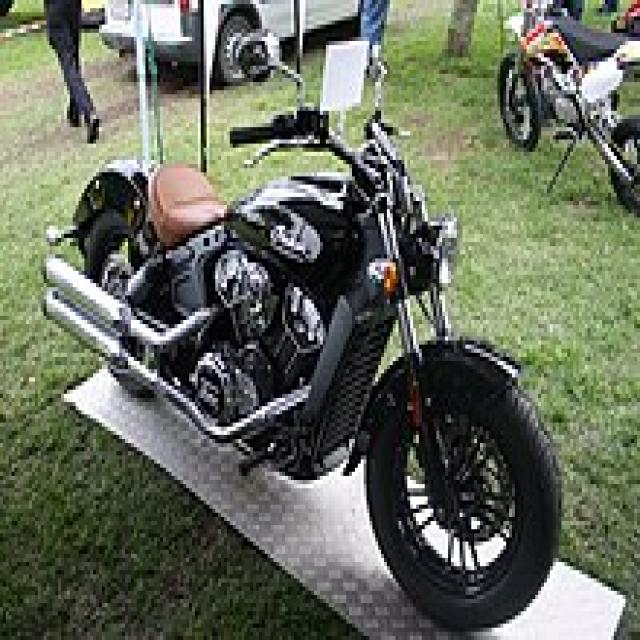car: (100, 1, 360, 84)
motorcycle: (45, 108, 559, 628), (498, 18, 640, 214)
